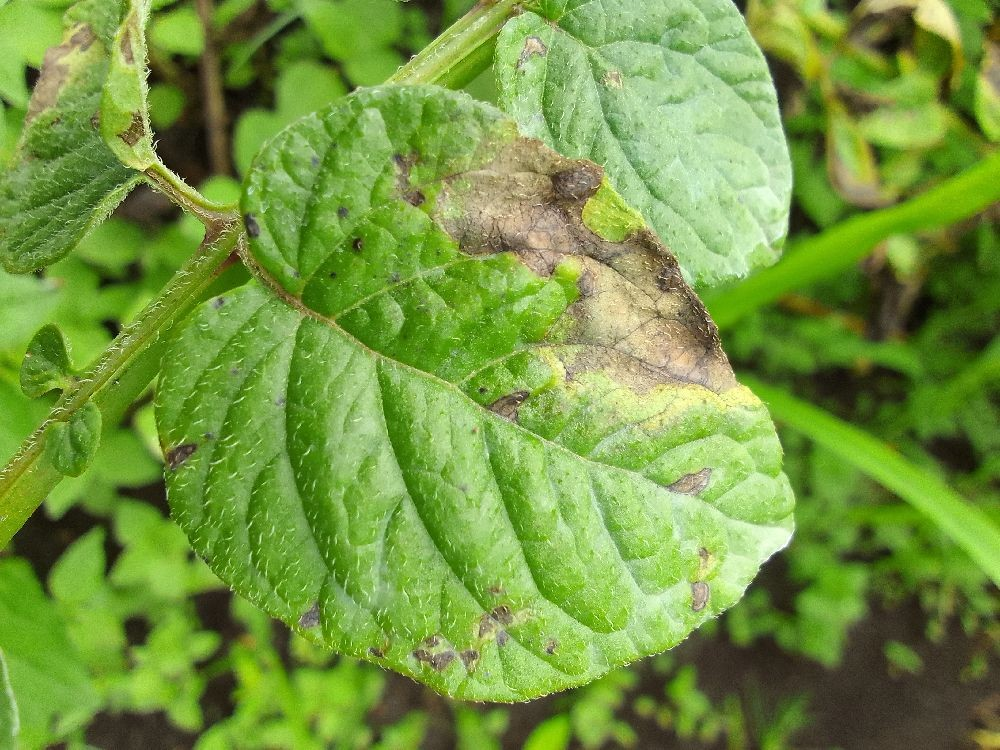late_blight: (405, 99, 798, 431), (551, 580, 999, 749), (98, 0, 320, 212), (338, 645, 593, 750)
